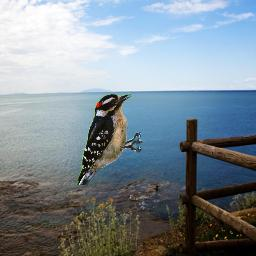Woodpecker: (77, 93, 143, 185)
